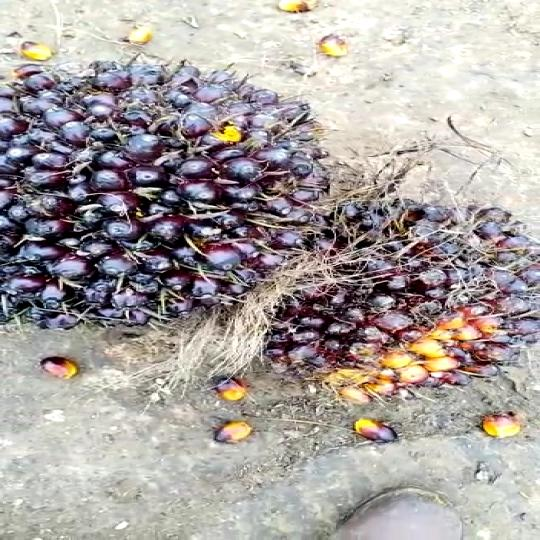kurang masak: (0, 50, 342, 350), (213, 193, 540, 414)
